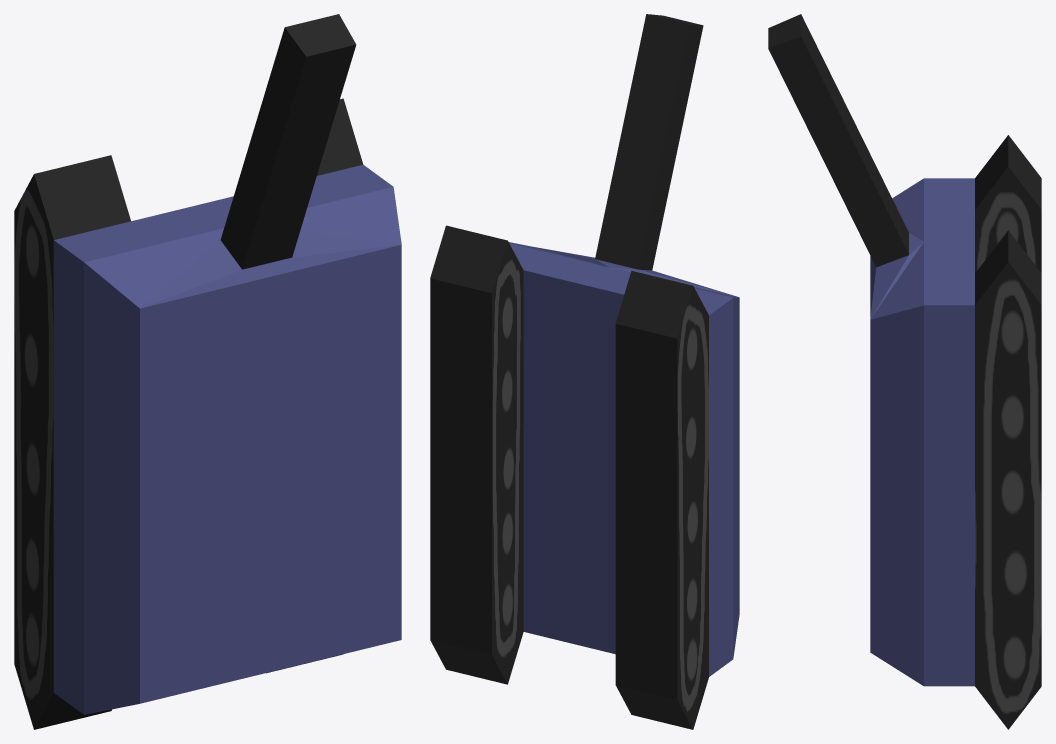
The model's file is enemy2.obj.
3 views of the same model, side by side, from view 1: azimuth 30°, elevation 25°; view 2: azimuth 150°, elevation 25°; view 3: azimuth 270°, elevation 25° (orthographic). The views are drawn at different scales.
Parts seen in each view (by area): view 1: Cube; view 2: Cube; view 3: Cube.
Boxes of the visible parts, box(x1,y1,x2,y2) form: Cube: box(14, 14, 401, 729); Cube: box(430, 14, 739, 729); Cube: box(768, 14, 1041, 729).
Size of the model in its own units: 4.06 by 9.54 by 3.69.
1 material, 1 textured.
